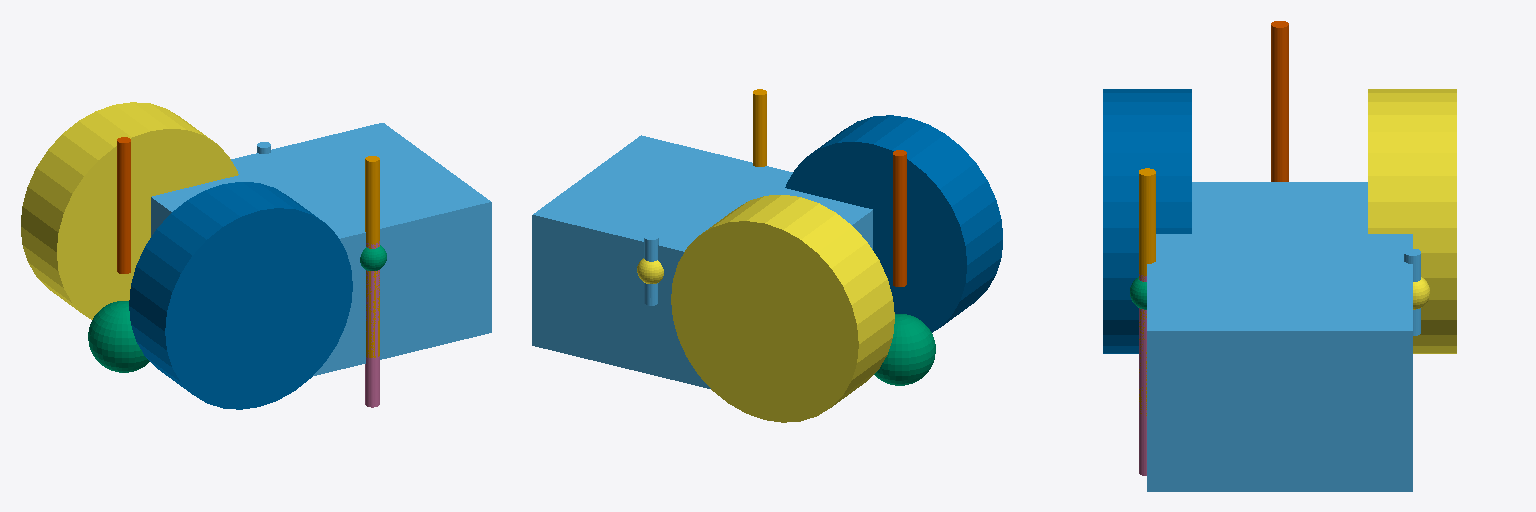
robot.urdf — desherborator:
<?xml version="1.0" ?>
<!-- =================================================================================== -->
<!-- |    This document was autogenerated by xacro from desherborator.urdf.xacro       | -->
<!-- |    EDITING THIS FILE BY HAND IS NOT RECOMMENDED                                 | -->
<!-- =================================================================================== -->
<robot name="desherborator" xmlns:xacro="http://ros.org/wiki/xacro">
  <gazebo reference="Chassis">
    <material>Gazebo/DarkGrey</material>
  </gazebo>
  <gazebo reference="RoueG">
    <mu1>1.2</mu1>
    <mu2>1.2</mu2>
    <kp>500000.0</kp>
    <kd>10.0</kd>
    <minDepth>0.001</minDepth>
    <maxVel>0.1</maxVel>
    <material>Gazebo/FlatBlack</material>
  </gazebo>
  <gazebo reference="RoueD">
    <mu1>1.2</mu1>
    <mu2>1.2</mu2>
    <kp>500000.0</kp>
    <kd>10.0</kd>
    <minDepth>0.001</minDepth>
    <maxVel>0.1</maxVel>
    <material>Gazebo/FlatBlack</material>
  </gazebo>
  <gazebo reference="RoueF">
    <mu1>0.1</mu1>
    <mu2>0.1</mu2>
    <kp>1000000.0</kp>
    <kd>100.0</kd>
    <minDepth>0.001</minDepth>
    <maxVel>1.0</maxVel>
    <material>Gazebo/FlatBlack</material>
  </gazebo>
  <gazebo reference="Mat">
    <material>Gazebo/FlatBlack</material>
  </gazebo>
  <gazebo reference="BrasC1">
    <material>Gazebo/FlatBlack</material>
  </gazebo>
  <gazebo reference="BrasC2">
    <material>Gazebo/FlatBlack</material>
  </gazebo>
  <gazebo reference="BrasC3">
    <material>Gazebo/FlatBlack</material>
  </gazebo>
  <gazebo reference="BrasS1">
    <material>Gazebo/FlatBlack</material>
  </gazebo>
  <gazebo reference="BrasS2">
    <material>Gazebo/FlatBlack</material>
  </gazebo>
  <!-- Base Chassis -->
  <link name="base_link"/>
  <!-- Link Chassis -->
  <link name="Chassis">
    <collision>
      <origin rpy="0 0 0" xyz="0 0 0.05"/>
      <geometry>
        <box size="0.4 0.3 0.2"/>
      </geometry>
    </collision>
    <visual>
      <origin rpy="0 0 0" xyz="0 0 0.05"/>
      <geometry>
        <box size="0.4 0.3 0.2"/>
      </geometry>
    </visual>
    <inertial>
      <origin rpy="0 0 0" xyz="0 0 0.05"/>
      <mass value="1"/>
      <inertia ixx="0.01" ixy="0.0" ixz="0.0" iyy="0.01" iyz="0.0" izz="0.01"/>
    </inertial>
  </link>
  <!-- Link Roue -->
  <!-- link Roue Folle -->
  <link name="RoueF">
    <collision>
      <origin rpy="0 0 0" xyz="0 0 0"/>
      <geometry>
        <sphere radius="0.05"/>
      </geometry>
    </collision>
    <visual>
      <origin rpy="0 0 0" xyz="0 0 0"/>
      <geometry>
        <sphere radius="0.05"/>
      </geometry>
    </visual>
    <inertial>
      <origin rpy="0 0 0" xyz="0 0 0"/>
      <mass value="0.01"/>
      <inertia ixx="0.01" ixy="0.0" ixz="0.0" iyy="0.01" iyz="0.0" izz="0.01"/>
    </inertial>
  </link>
  <!-- link Roue Gauche -->
  <link name="RoueG">
    <collision>
      <origin rpy="0 1.5707 1.5707" xyz="0 0 0"/>
      <geometry>
        <cylinder length="0.1" radius="0.15"/>
      </geometry>
    </collision>
    <visual>
      <origin rpy="0 1.5707 1.5707" xyz="0 0 0"/>
      <geometry>
        <cylinder length="0.1" radius="0.15"/>
      </geometry>
    </visual>
    <inertial>
      <origin rpy="0 0 0" xyz="0 0 0"/>
      <mass value="0.01"/>
      <inertia ixx="0.01" ixy="0.0" ixz="0.0" iyy="0.01" iyz="0.0" izz="0.01"/>
    </inertial>
  </link>
  <!-- link Roue Droite -->
  <link name="RoueD">
    <collision>
      <origin rpy="0 1.5707 1.5707" xyz="0 0 0"/>
      <geometry>
        <cylinder length="0.1" radius="0.15"/>
      </geometry>
    </collision>
    <visual>
      <origin rpy="0 1.5707 1.5707" xyz="0 0 0"/>
      <geometry>
        <cylinder length="0.1" radius="0.15"/>
      </geometry>
    </visual>
    <inertial>
      <origin rpy="0 0 0" xyz="0 0 0"/>
      <mass value="0.01"/>
      <inertia ixx="0.01" ixy="0.0" ixz="0.0" iyy="0.01" iyz="0.0" izz="0.01"/>
    </inertial>
  </link>
  <!-- link Mat -->
  <link name="Mat">
    <collision>
      <origin rpy="0 0 0" xyz="0 0 0"/>
      <geometry>
        <cylinder length="0.2" radius="0.01"/>
      </geometry>
    </collision>
    <visual>
      <origin rpy="0 0 0" xyz="0 0 0"/>
      <geometry>
        <cylinder length="0.2" radius="0.01"/>
      </geometry>
    </visual>
    <inertial>
      <origin rpy="0 0 0" xyz="0 0 0"/>
      <mass value="0.01"/>
      <inertia ixx="0.01" ixy="0.0" ixz="0.0" iyy="0.01" iyz="0.0" izz="0.01"/>
    </inertial>
  </link>
  <!-- link Bras -->
  <!-- link Bras Cylindre 1 -->
  <link name="BrasC1">
    <collision>
      <origin rpy="0 0 0" xyz="0 0 0"/>
      <geometry>
        <cylinder length="0.25" radius="0.01"/>
      </geometry>
    </collision>
    <visual>
      <origin rpy="0 0 0" xyz="0 0 0"/>
      <geometry>
        <cylinder length="0.25" radius="0.01"/>
      </geometry>
    </visual>
    <inertial>
      <origin rpy="0 0 0" xyz="0 0 0"/>
      <mass value="0.01"/>
      <inertia ixx="0.01" ixy="0.0" ixz="0.0" iyy="0.01" iyz="0.0" izz="0.01"/>
    </inertial>
  </link>
  <!-- link Dummy Bras Cylindre 1 -->
  <link name="BrasC1dummy"/>
  <!-- link Bras Cylindre 2 -->
  <link name="BrasC2">
    <collision>
      <origin rpy="0 1.5707 1.5707" xyz="0 0 0"/>
      <geometry>
        <cylinder length="0.3" radius="0.01"/>
      </geometry>
    </collision>
    <visual>
      <origin rpy="0 0 0" xyz="0 0 0"/>
      <geometry>
        <cylinder length="0.3" radius="0.01"/>
      </geometry>
    </visual>
    <inertial>
      <origin rpy="0 1.5707 1.5707" xyz="0 0 0"/>
      <mass value="0.01"/>
      <inertia ixx="0.01" ixy="0.0" ixz="0.0" iyy="0.01" iyz="0.0" izz="0.01"/>
    </inertial>
  </link>
  <!-- link Bras Cylindre 3 -->
  <link name="BrasC3">
    <collision>
      <origin rpy="0 3.14 0" xyz="0 0 0"/>
      <geometry>
        <cylinder length="0.1" radius="0.01"/>
      </geometry>
    </collision>
    <visual>
      <origin rpy="0 3.14 0" xyz="0 0 0"/>
      <geometry>
        <cylinder length="0.1" radius="0.01"/>
      </geometry>
    </visual>
    <inertial>
      <origin rpy="0 0 0" xyz="0 0 0"/>
      <mass value="0.01"/>
      <inertia ixx="0.01" ixy="0.0" ixz="0.0" iyy="0.01" iyz="0.0" izz="0.01"/>
    </inertial>
  </link>
  <!-- link Bras Sphere 1 -->
  <link name="BrasS1">
    <collision>
      <origin rpy="0 0 0" xyz="0 0 0"/>
      <geometry>
        <sphere radius="0.02"/>
      </geometry>
    </collision>
    <visual>
      <origin rpy="0 0 0" xyz="0 0 0"/>
      <geometry>
        <sphere radius="0.02"/>
      </geometry>
    </visual>
    <inertial>
      <origin rpy="0 0 0" xyz="0 0 0"/>
      <mass value="0.01"/>
      <inertia ixx="0.01" ixy="0.0" ixz="0.0" iyy="0.01" iyz="0.0" izz="0.01"/>
    </inertial>
  </link>
  <!-- link Bras Sphere 2 -->
  <link name="BrasS2">
    <collision>
      <origin rpy="0 0 0" xyz="0 0 0"/>
      <geometry>
        <sphere radius="0.02"/>
      </geometry>
    </collision>
    <visual>
      <origin rpy="0 0 0" xyz="0 0 0"/>
      <geometry>
        <sphere radius="0.02"/>
      </geometry>
    </visual>
    <inertial>
      <origin rpy="0 0 0" xyz="0 0 0"/>
      <mass value="0.01"/>
      <inertia ixx="0.01" ixy="0.0" ixz="0.0" iyy="0.01" iyz="0.0" izz="0.01"/>
    </inertial>
  </link>
  <joint name="base_joint" type="fixed">
    <parent link="base_link"/>
    <child link="Chassis"/>
    <origin rpy="0 0 0" xyz="0 0 0.05"/>
  </joint>
  <joint name="mat_attached" type="fixed">
    <parent link="Chassis"/>
    <child link="Mat"/>
    <origin rpy="0 0 0" xyz="-0.3 0 0.2"/>
  </joint>
  <joint name="joint_1" type="continuous">
    <parent link="Chassis"/>
    <child link="RoueD"/>
    <origin rpy="0 0 0" xyz="-0.2 -0.15 0.1"/>
    <axis xyz="0 1 0"/>
  </joint>
  <joint name="joint_2" type="continuous">
    <parent link="Chassis"/>
    <child link="RoueG"/>
    <origin rpy="0 0 0" xyz="-0.2 0.15 0.1"/>
    <axis xyz="0 1 0"/>
  </joint>
  <joint name="joint_3" type="fixed">
    <parent link="Chassis"/>
    <child link="RoueF"/>
    <origin rpy="0 0 0" xyz="-0.3 0 0"/>
  </joint>
  <joint name="joint_4" type="continuous">
    <parent link="Chassis"/>
    <child link="BrasC1dummy"/>
    <origin rpy="0 0 0" xyz="0.01 -0.15 0"/>
    <axis xyz="0 0 1"/>
  </joint>
  <joint name="joint_5" type="prismatic">
    <parent link="BrasC1dummy"/>
    <child link="BrasC1"/>
    <origin rpy="0 0 0" xyz="0 0 0.01"/>
    <axis xyz="0 0 1"/>
    <limit effort="10" lower="0" upper="0.10" velocity="1"/>
  </joint>
  <joint name="joint_6" type="fixed">
    <parent link="BrasC1"/>
    <child link="BrasS1"/>
    <origin rpy="0 0 0" xyz="0 0 0.10"/>
  </joint>
  <joint name="joint_7" type="fixed">
    <parent link="BrasS1"/>
    <child link="BrasC2"/>
    <origin rpy="0  0  0" xyz="0 0 0"/>
  </joint>
  <joint name="joint_8" type="fixed">
    <parent link="BrasC2"/>
    <child link="BrasS2"/>
    <origin rpy="0 0 0" xyz="0 0.3 0"/>
  </joint>
  <joint name="joint_9" type="fixed">
    <parent link="BrasS2"/>
    <child link="BrasC3"/>
    <origin rpy="0 0 0" xyz="0 0 0"/>
  </joint>
  <gazebo>
    <plugin filename="libgazebo_ros_diff_drive.so" name="wheels_controller">
      <commandTopic>cmd_vel</commandTopic>
      <odometryTopic>odom</odometryTopic>
      <odometryFrame>odom</odometryFrame>
      <odometrySource>world</odometrySource>
      <publishOdomTF>true</publishOdomTF>
      <!-- ENTER BASE LINK NAME -->
      <robotBaseFrame>base_link</robotBaseFrame>
      <publishWheelTF>true</publishWheelTF>
      <publishTf>true</publishTf>
      <publishWheelJointState>true</publishWheelJointState>
      <legacyMode>true</legacyMode>
      <updateRate>30</updateRate>
      <!-- ENTER LEFT JOINT NAME -->
      <leftJoint>RoueG</leftJoint>
      <!-- ENTER RIGHT JOINT NAME -->
      <rightJoint>RoueD</rightJoint>
      <wheelSeparation>0.31</wheelSeparation>
      <wheelDiameter>0.1</wheelDiameter>
      <wheelAcceleration>0.1</wheelAcceleration>
      <wheelTorque>10</wheelTorque>
      <rosDebugLevel>na</rosDebugLevel>
    </plugin>
  </gazebo>
</robot>

--- Render facts (derived) ---
The picture shows the robot from 3 angles, left to right: view 1: azimuth 30°, elevation 25°; view 2: azimuth 150°, elevation 25°; view 3: azimuth 270°, elevation 25°; orthographic projection.
Model desherborator with 12 links and 11 joints (3 continuous, 1 prismatic, 7 fixed), rooted at base_link, posed every joint at zero.
Visible links, largest first — view 1: RoueD, Chassis, RoueG, RoueF, BrasC2, Mat, BrasC1, BrasS1; view 2: RoueG, Chassis, RoueD, RoueF, Mat, BrasC2, BrasC3, BrasS2; view 3: Chassis, RoueG, RoueD, Mat, BrasC2, BrasC1, BrasC3.
Boxes of the visible links, bbox=[...] form: RoueD: bbox=[129, 182, 352, 409]; Chassis: bbox=[151, 123, 491, 375]; RoueG: bbox=[21, 102, 238, 319]; RoueF: bbox=[88, 301, 149, 372]; BrasC2: bbox=[365, 156, 379, 357]; Mat: bbox=[117, 137, 130, 273]; BrasC1: bbox=[365, 241, 379, 407]; BrasS1: bbox=[360, 245, 386, 270]; RoueG: bbox=[671, 195, 894, 422]; Chassis: bbox=[532, 135, 872, 388]; RoueD: bbox=[785, 115, 1002, 332]; RoueF: bbox=[874, 314, 935, 385]; Mat: bbox=[893, 150, 906, 286]; BrasC2: bbox=[753, 89, 766, 166]; BrasC3: bbox=[644, 234, 658, 305]; BrasS2: bbox=[637, 258, 663, 283]; Chassis: bbox=[1147, 182, 1412, 491]; RoueG: bbox=[1368, 89, 1456, 353]; RoueD: bbox=[1103, 89, 1191, 353]; Mat: bbox=[1271, 21, 1288, 181]; BrasC2: bbox=[1139, 168, 1155, 415]; BrasC1: bbox=[1139, 274, 1146, 475]; BrasC3: bbox=[1404, 248, 1420, 335].
Size in the robot's own frame: 0.55 by 0.4 by 0.415 metres.
Geometry: primitives only (box / cylinder / sphere), no mesh files.